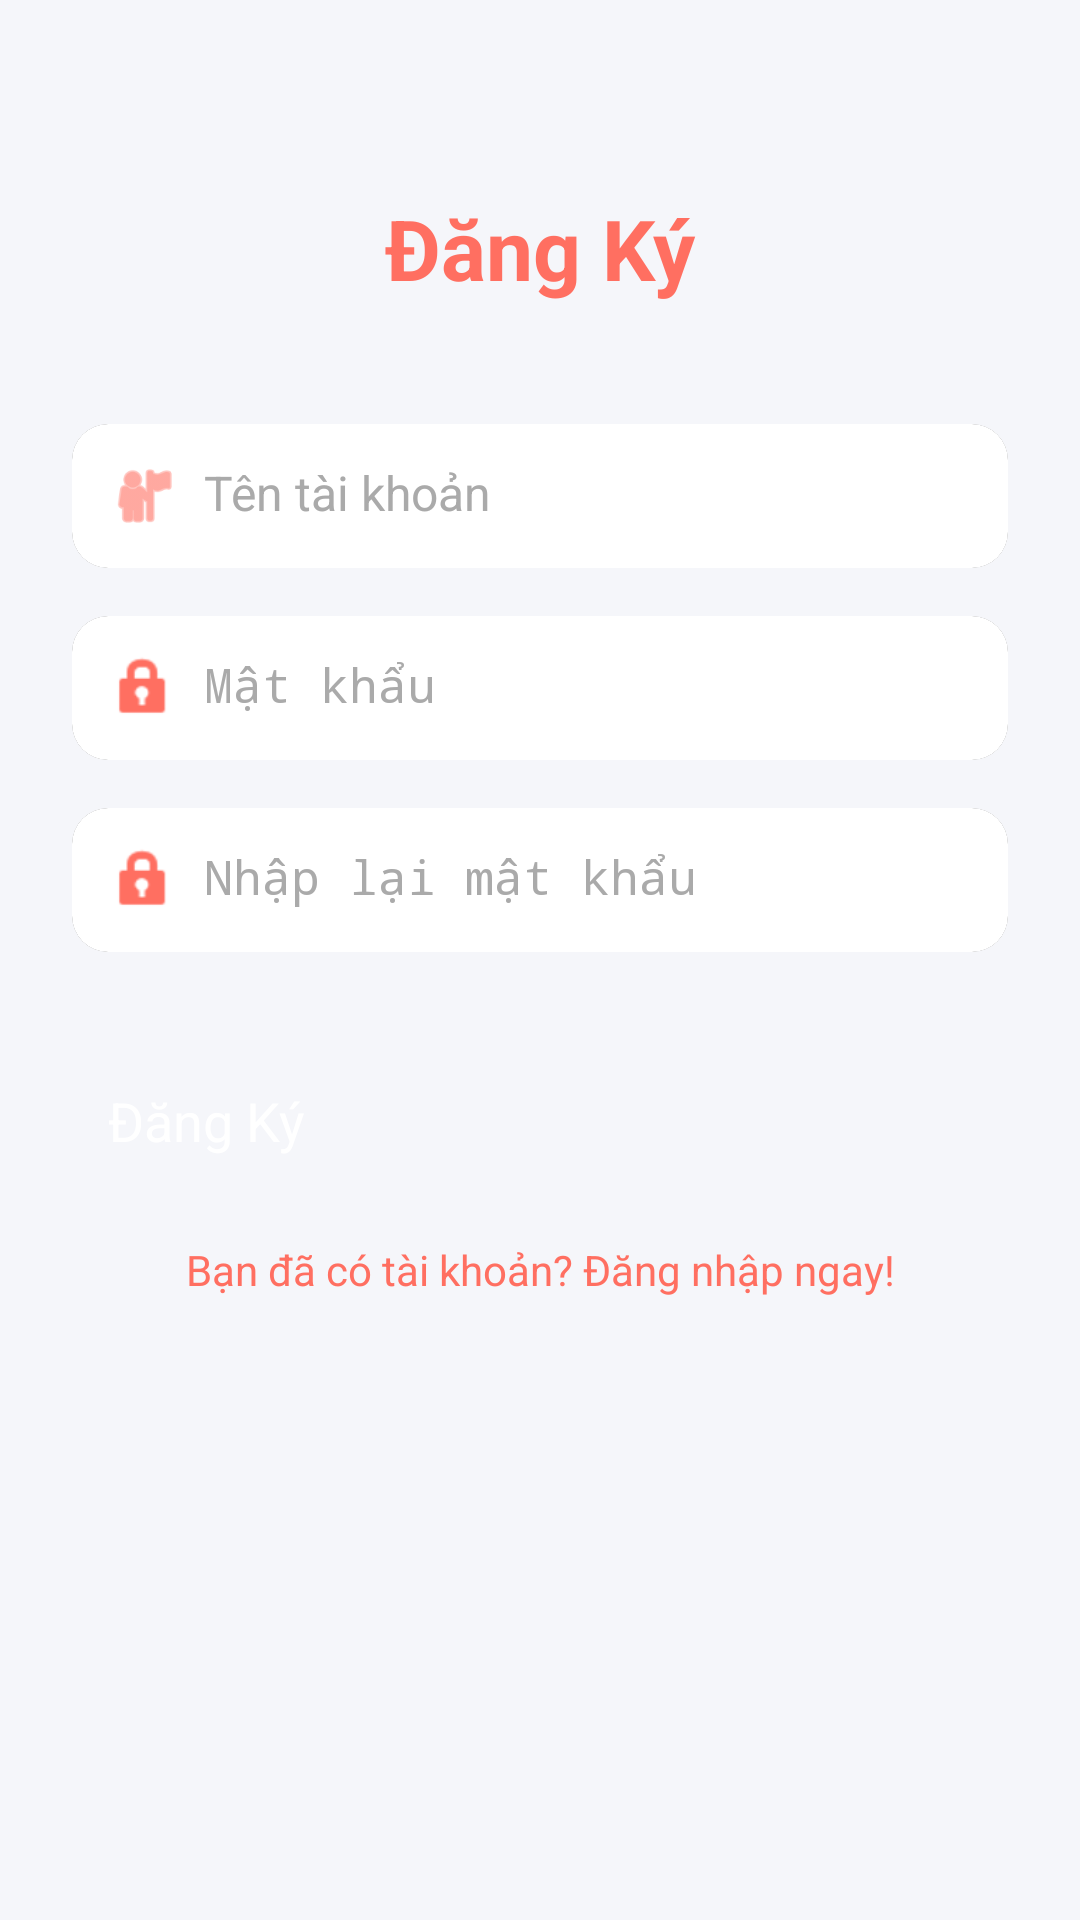

Locate icon controls on the screen. Image size 1080 x 1920, boxes as (left=x1, top=y1, right=x2, bottom=y2).
lock idle: (left=119, top=658, right=166, bottom=713), (left=119, top=850, right=166, bottom=905)
myplaces: (left=118, top=469, right=172, bottom=523)
